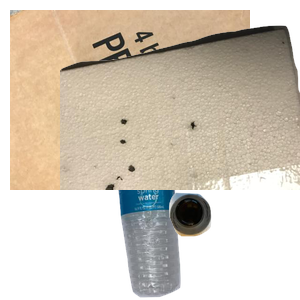cardboard: (10, 10, 250, 190)
glass: (166, 190, 300, 300)
plastic: (115, 176, 288, 300)
trash: (60, 23, 300, 203)
